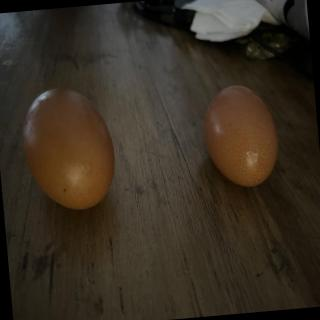Telur: (15, 85, 123, 220), (196, 81, 286, 199)
